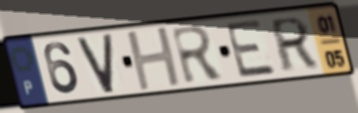6: (42, 41, 81, 96)
E: (223, 17, 280, 80)
H: (124, 24, 185, 94)
R: (168, 23, 227, 87), (270, 15, 319, 75)
V: (74, 31, 117, 96)
